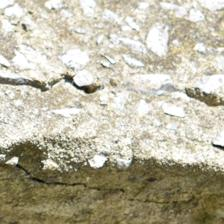Crack: (14, 14, 201, 98), (159, 91, 203, 125)
